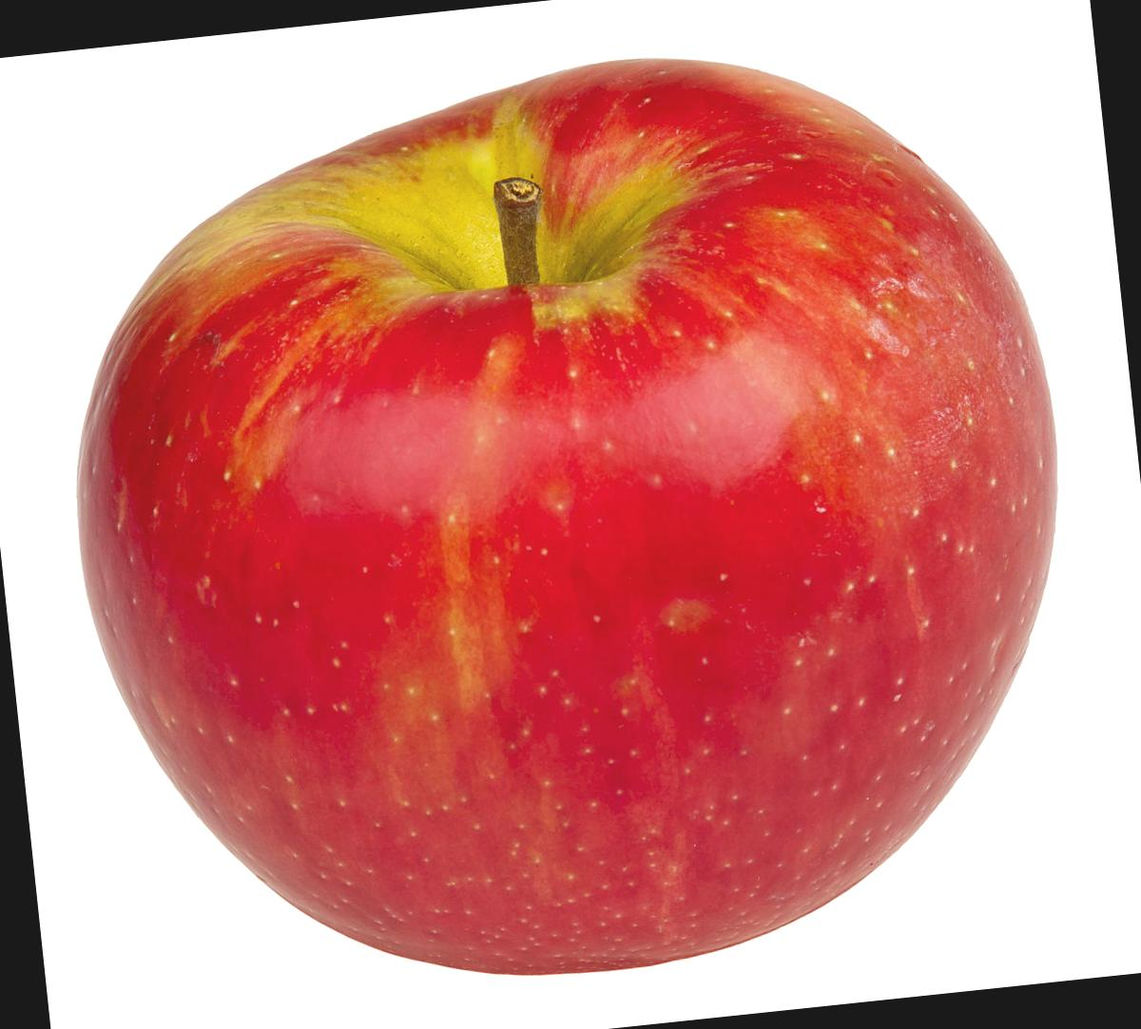Apple Ripe: (0, 10, 1139, 1029)
